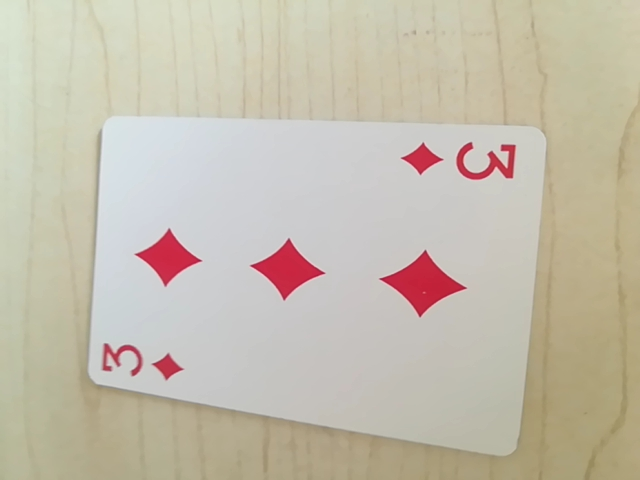fk 3: (398, 135, 520, 185), (96, 333, 191, 387)
